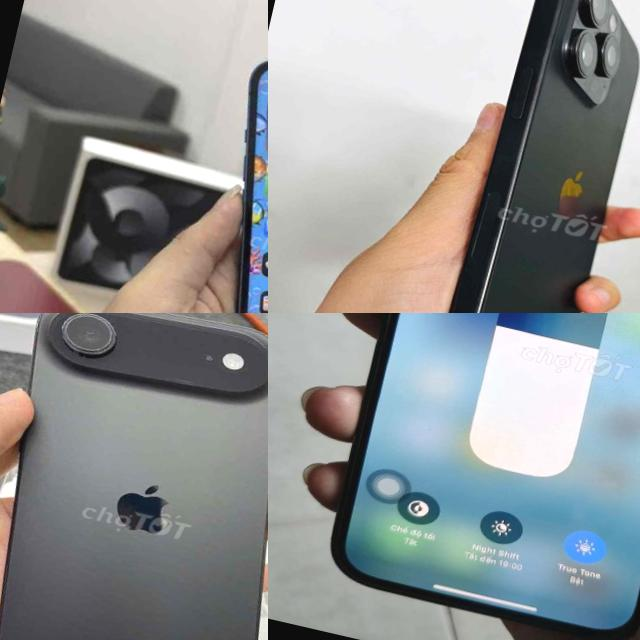scratch: (52, 313, 123, 362)
